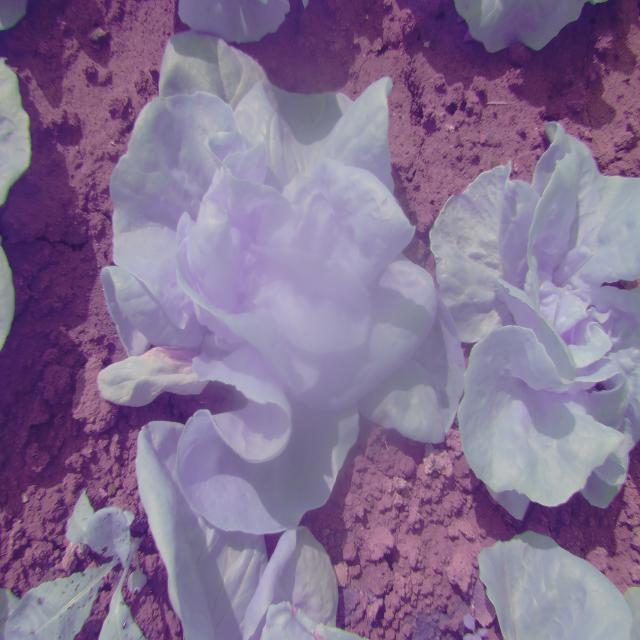vege: (88, 32, 441, 528)
